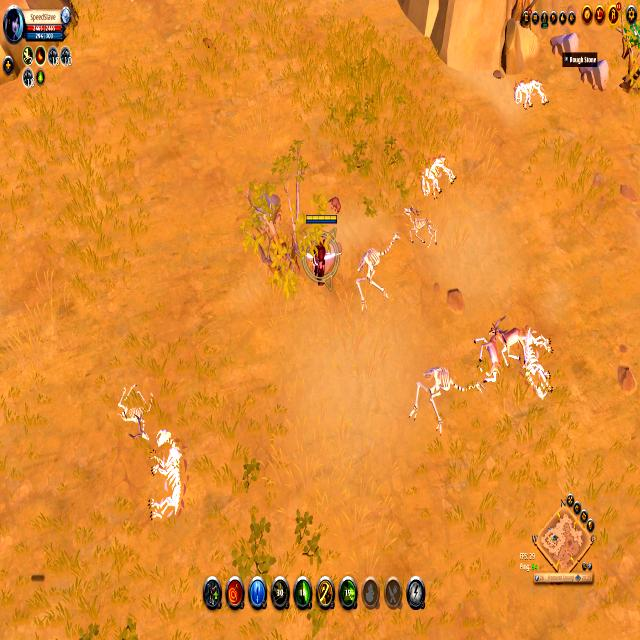hide: (622, 19, 640, 53)
mob: (488, 319, 530, 362), (476, 331, 502, 388)
red: (304, 210, 337, 282)
